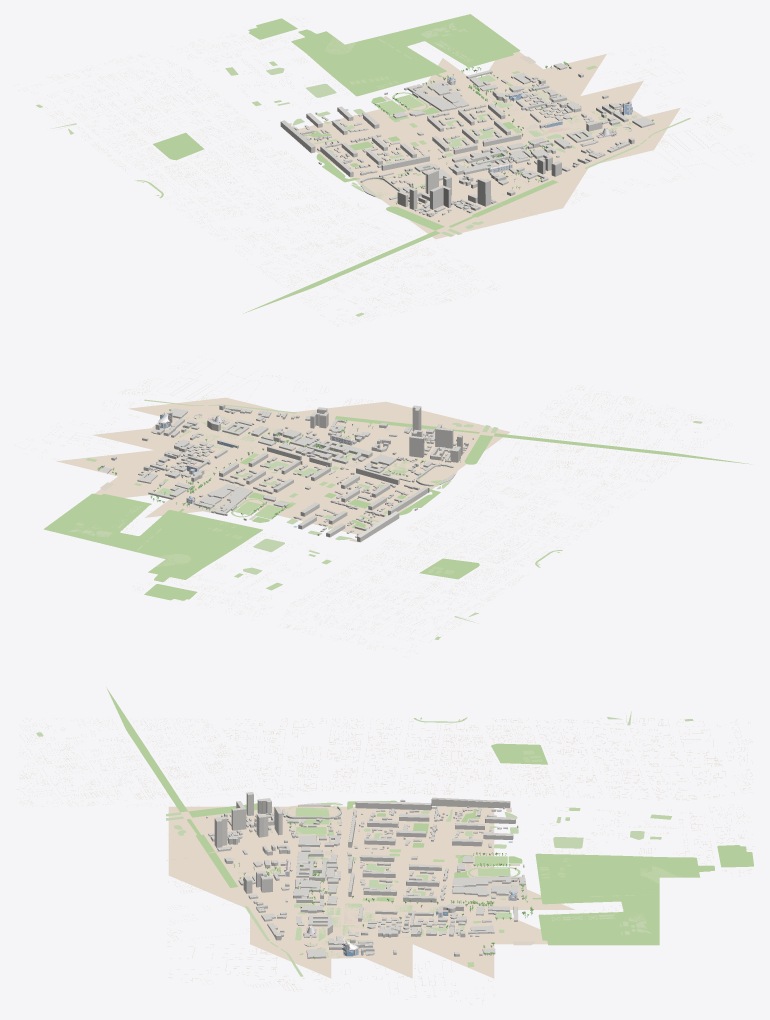
The model's file is campus.glb.
3 renders of one model, top to bottom at view 1: azimuth 30°, elevation 25°; view 2: azimuth 150°, elevation 25°; view 3: azimuth 270°, elevation 25°, orthographic. The views are drawn at different scales.
Visible parts, largest first — view 1: base, areas, buildings, models, trees; view 2: base, areas, buildings, models, trees; view 3: base, areas, buildings, trees, models.
Boxes of the visible parts, x1,y1,x2,y2 form: base: (14, 18, 751, 326); areas: (36, 14, 708, 316); buildings: (280, 63, 654, 221); models: (447, 76, 632, 173); trees: (373, 61, 653, 204); base: (15, 356, 732, 657); areas: (43, 393, 750, 639); buildings: (100, 404, 473, 542); models: (158, 412, 353, 503); trees: (97, 409, 460, 518); base: (17, 717, 754, 1004); areas: (36, 687, 753, 984); buildings: (206, 792, 525, 958); trees: (234, 821, 533, 958); models: (285, 859, 517, 956).
Size of the model in its own units: 2367 by 93.12 by 2325.
